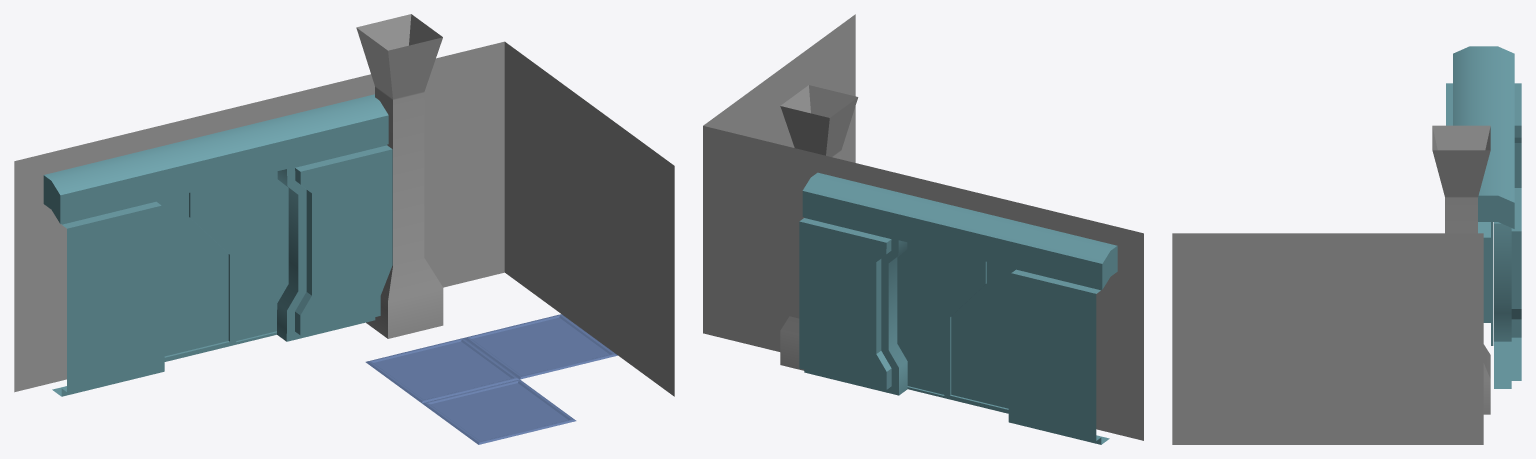
Rendered from LAB_BASE_V3.fbx.
3 views of the same model, side by side, from view 1: azimuth 30°, elevation 25°; view 2: azimuth 150°, elevation 25°; view 3: azimuth 270°, elevation 25° (orthographic). The views are drawn at different scales.
Visible parts, largest first — view 1: Base_Puerta, Esquina, Pilar, Pared_02, Pared, Puerta_02, Puerta_01, pCube33, pCube34, pCube32; view 2: Base_Puerta, Esquina, Puerta_02, Puerta_01, Pilar, Pared_02, Pared; view 3: Pared_02, Pared, Esquina, Base_Puerta, Pilar, Puerta_01, Puerta_02.
Boxes of the visible parts, x1=… form: Base_Puerta: x1=14, y1=74, x2=392, y2=396; Esquina: x1=424, y1=41, x2=561, y2=313; Pilar: x1=356, y1=14, x2=443, y2=338; Pared_02: x1=618, y1=124, x2=674, y2=396; Pared: x1=561, y1=83, x2=617, y2=354; Puerta_02: x1=153, y1=191, x2=233, y2=361; Puerta_01: x1=194, y1=171, x2=288, y2=344; pCube33: x1=422, y1=379, x2=576, y2=444; pCube34: x1=463, y1=314, x2=617, y2=379; pCube32: x1=365, y1=338, x2=519, y2=403; Base_Puerta: x1=791, y1=147, x2=1143, y2=444; Esquina: x1=703, y1=89, x2=791, y2=351; Puerta_02: x1=946, y1=260, x2=1019, y2=413; Puerta_01: x1=897, y1=242, x2=981, y2=398; Pilar: x1=780, y1=85, x2=858, y2=370; Pared_02: x1=805, y1=14, x2=855, y2=162; Pared: x1=754, y1=51, x2=804, y2=147; Pared_02: x1=1172, y1=233, x2=1276, y2=444; Pared: x1=1276, y1=233, x2=1379, y2=444; Esquina: x1=1380, y1=233, x2=1483, y2=444; Base_Puerta: x1=1446, y1=46, x2=1521, y2=388; Pilar: x1=1432, y1=125, x2=1490, y2=414; Puerta_01: x1=1478, y1=222, x2=1493, y2=345; Puerta_02: x1=1478, y1=222, x2=1490, y2=322.
Bounding box in the file's own units: 20 × 11.23 × 13.47.
